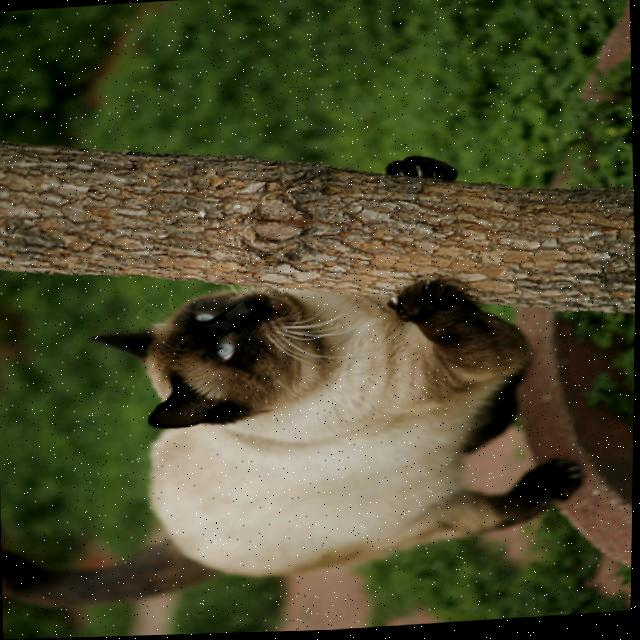Siamese: (87, 265, 597, 590)
